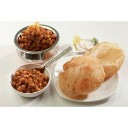poori: (60, 57, 103, 97), (86, 43, 126, 76)
